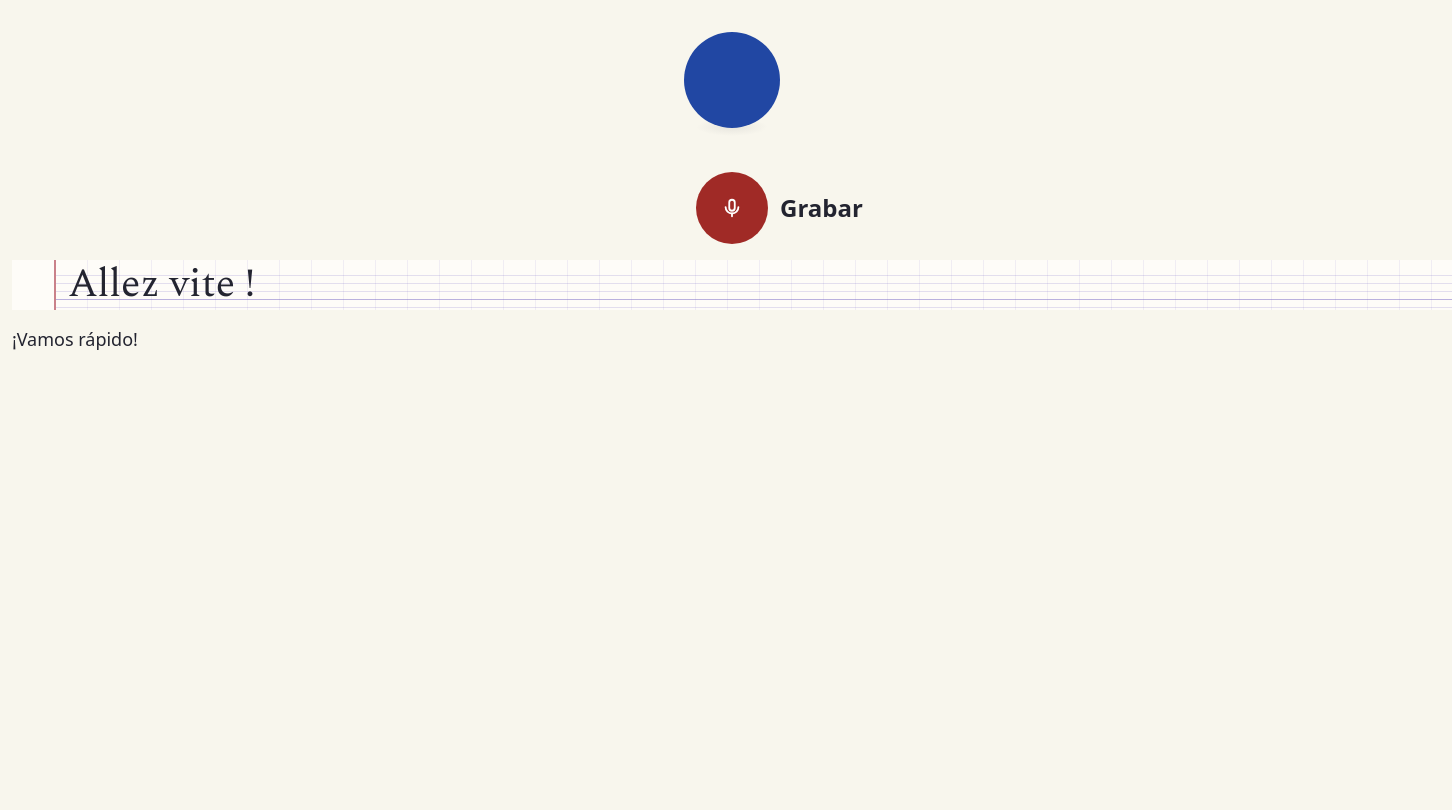
Test: renders scores words and phoneme chips from result
Click the button "Grabar": (732, 208) [696,172,768,244]
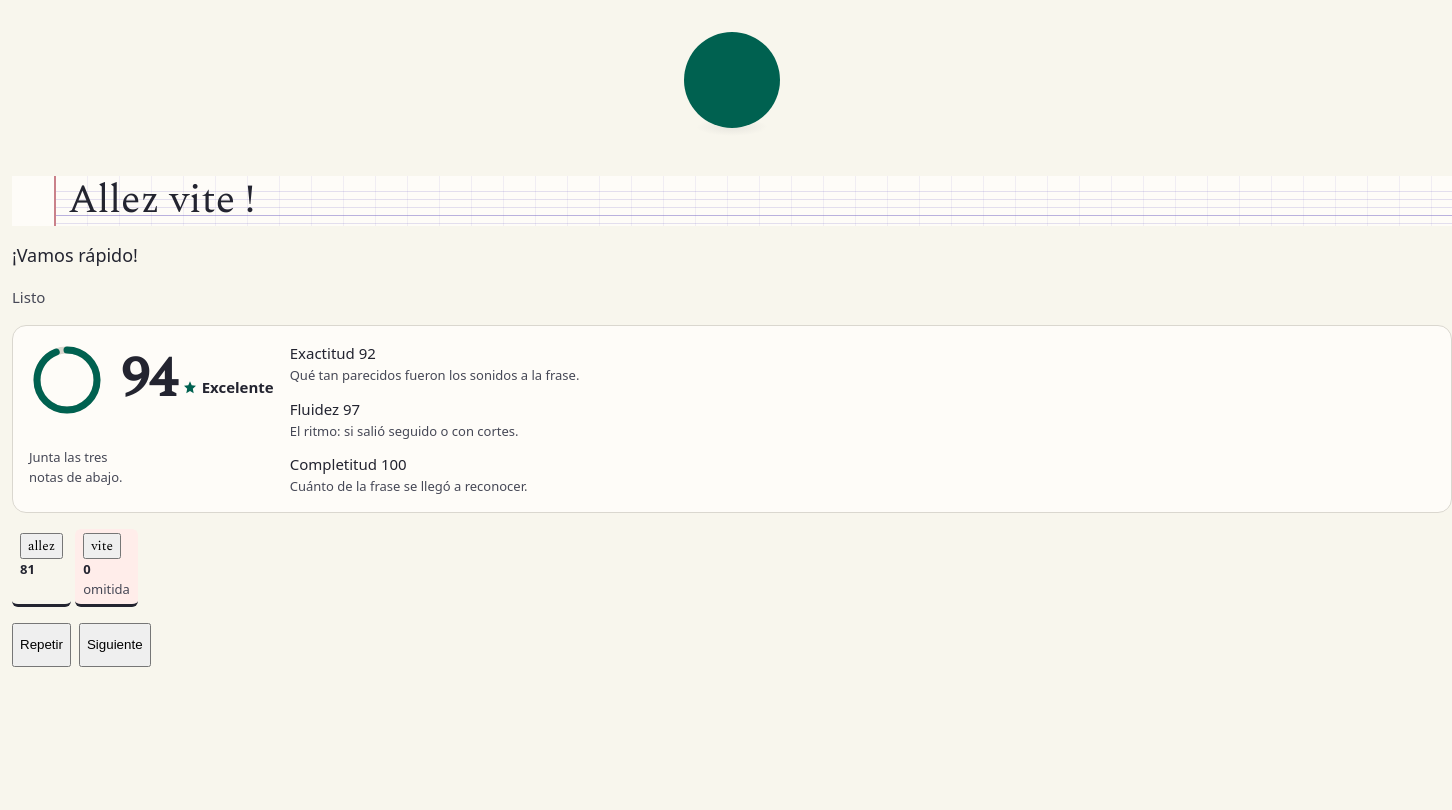
Check: the text "94" is shown, box [121,337,177,422]
Check: the text "Excelente" is shown, box [182,376,274,400]
Check: the text "Exactitud 92" is shown, box [290,343,376,363]
Click the button "allez": (42, 546) [20,533,63,559]
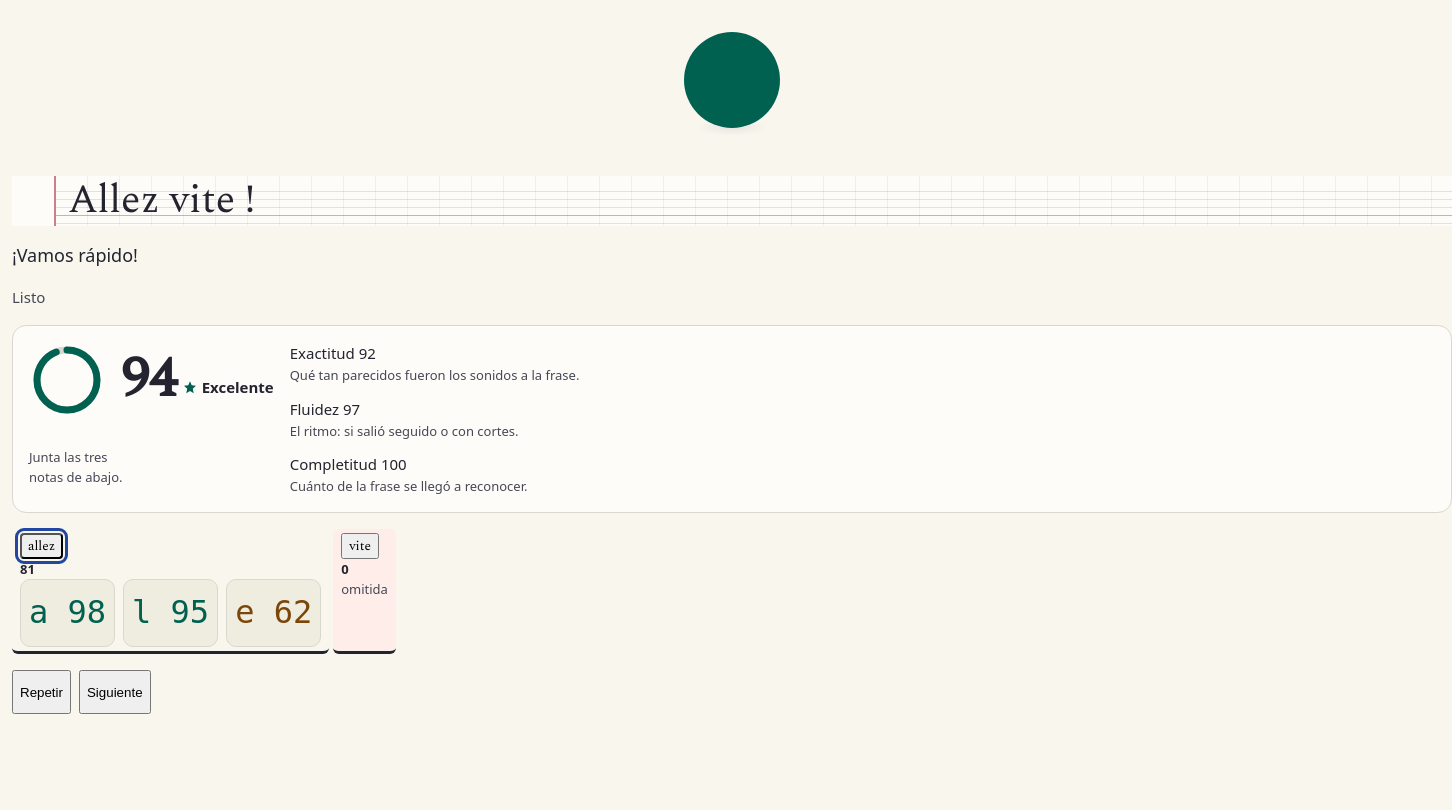
Check: the button "Siguiente" is shown, box [79,670,151,714]
Check: the button "Repetir" is shown, box [12,670,71,714]
Check: the list items read "a 98", "l 95", "e 62", in this order, box [20,580,115,647]; [123,580,218,647]; [226,580,321,647]
